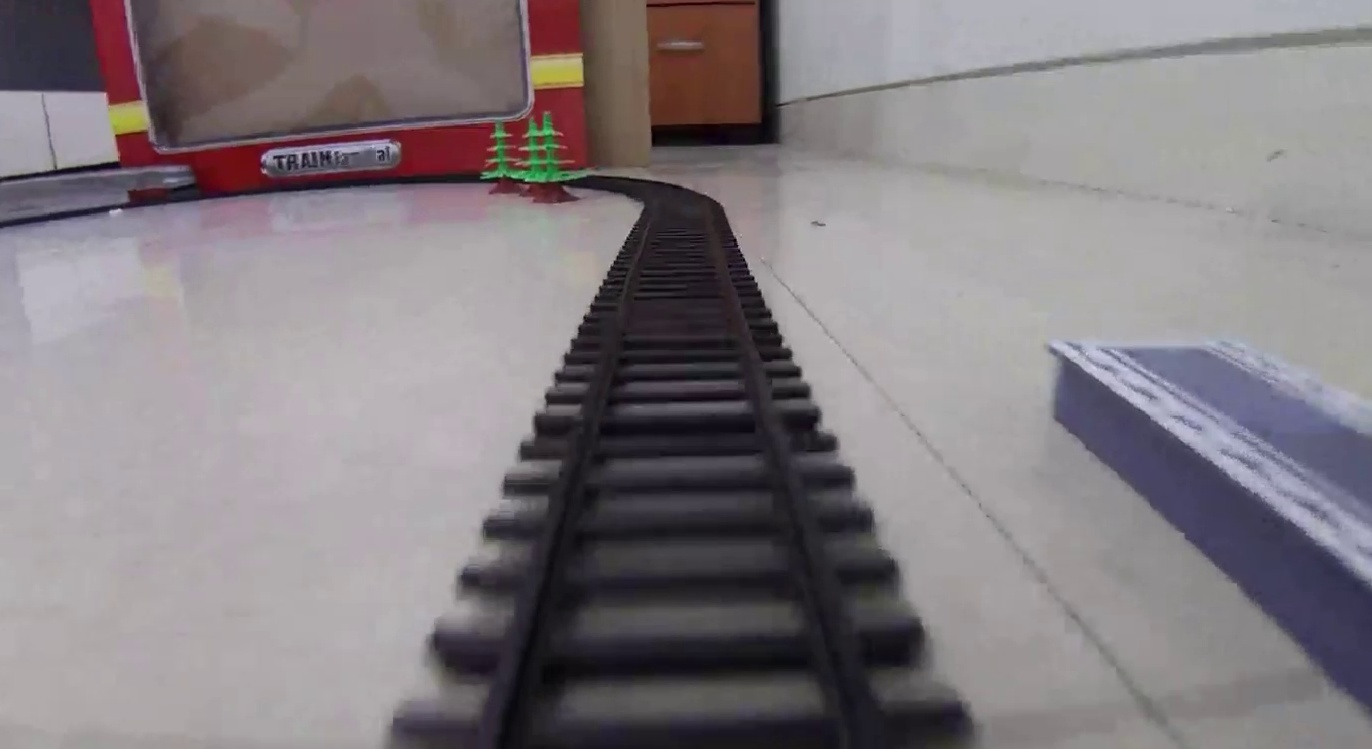tree: (537, 110, 576, 204), (515, 118, 549, 200), (490, 114, 522, 195)
